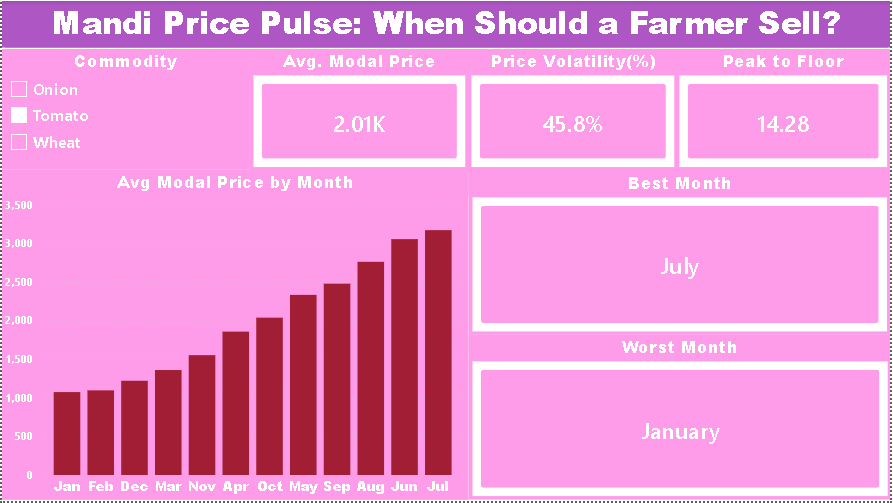

Layout of this report page (visuals, bound fields, positions):
{"tool":"powerbi","page":{"name":"Best Time to Sell","canvas":[1280,720],"ordinal":0},"visuals":[{"type":"textbox","title":"Mandi Price Pulse: When Should a Farmer Sell?","box":[0,0,1280.2,69.1],"z":0},{"type":"slicer","title":"Commodity","fields":{"Values":["mandi_prices.Commodity"]},"box":[0,69.2,357.1,174.2],"z":1000},{"type":"cardVisual","title":"Avg. Modal Price","fields":{"Data":["mandi_prices.Avg Modal Price"]},"box":[357.1,69.1,315.4,175.7],"z":2000},{"type":"cardVisual","title":"Price Volatility(%)","fields":{"Data":["mandi_prices.Price Volatility %"]},"box":[671,69.1,302.4,175.7],"z":3000},{"type":"cardVisual","title":"Peak to Floor","fields":{"Data":["mandi_prices.Peak to Floor (x)"]},"box":[970.6,69.1,309.6,175.7],"z":4000},{"type":"clusteredColumnChart","fields":{"Category":["DimDate.Month"],"Y":["mandi_prices.Avg Modal Price"]},"box":[0,243.4,672.5,475.2],"z":5000},{"type":"cardVisual","title":"Best Month","fields":{"Data":["mandi_prices.Best Month"]},"box":[672.5,244.8,607.7,236.2],"z":6000},{"type":"cardVisual","title":"Worst Month","fields":{"Data":["mandi_prices.Worst Month"]},"box":[672,481,608,237],"z":7000}]}

Visuals, with their boxes in screenshot pixels (x1, y1, x2, y2), scaled from the page's 1280x720 canvas onto the 893x503 screenshot:
"Mandi Price Pulse: When Should a Farmer Sell?" textbox: 0 0 892 48
"Commodity" slicer: 0 48 249 170
"Avg. Modal Price" cardVisual: 249 48 469 171
"Price Volatility(%)" cardVisual: 468 48 679 171
"Peak to Floor" cardVisual: 677 48 892 171
clusteredColumnChart - DimDate.Month x mandi_prices.Avg Modal Price: 0 170 469 502
"Best Month" cardVisual: 469 171 892 336
"Worst Month" cardVisual: 469 336 892 502
